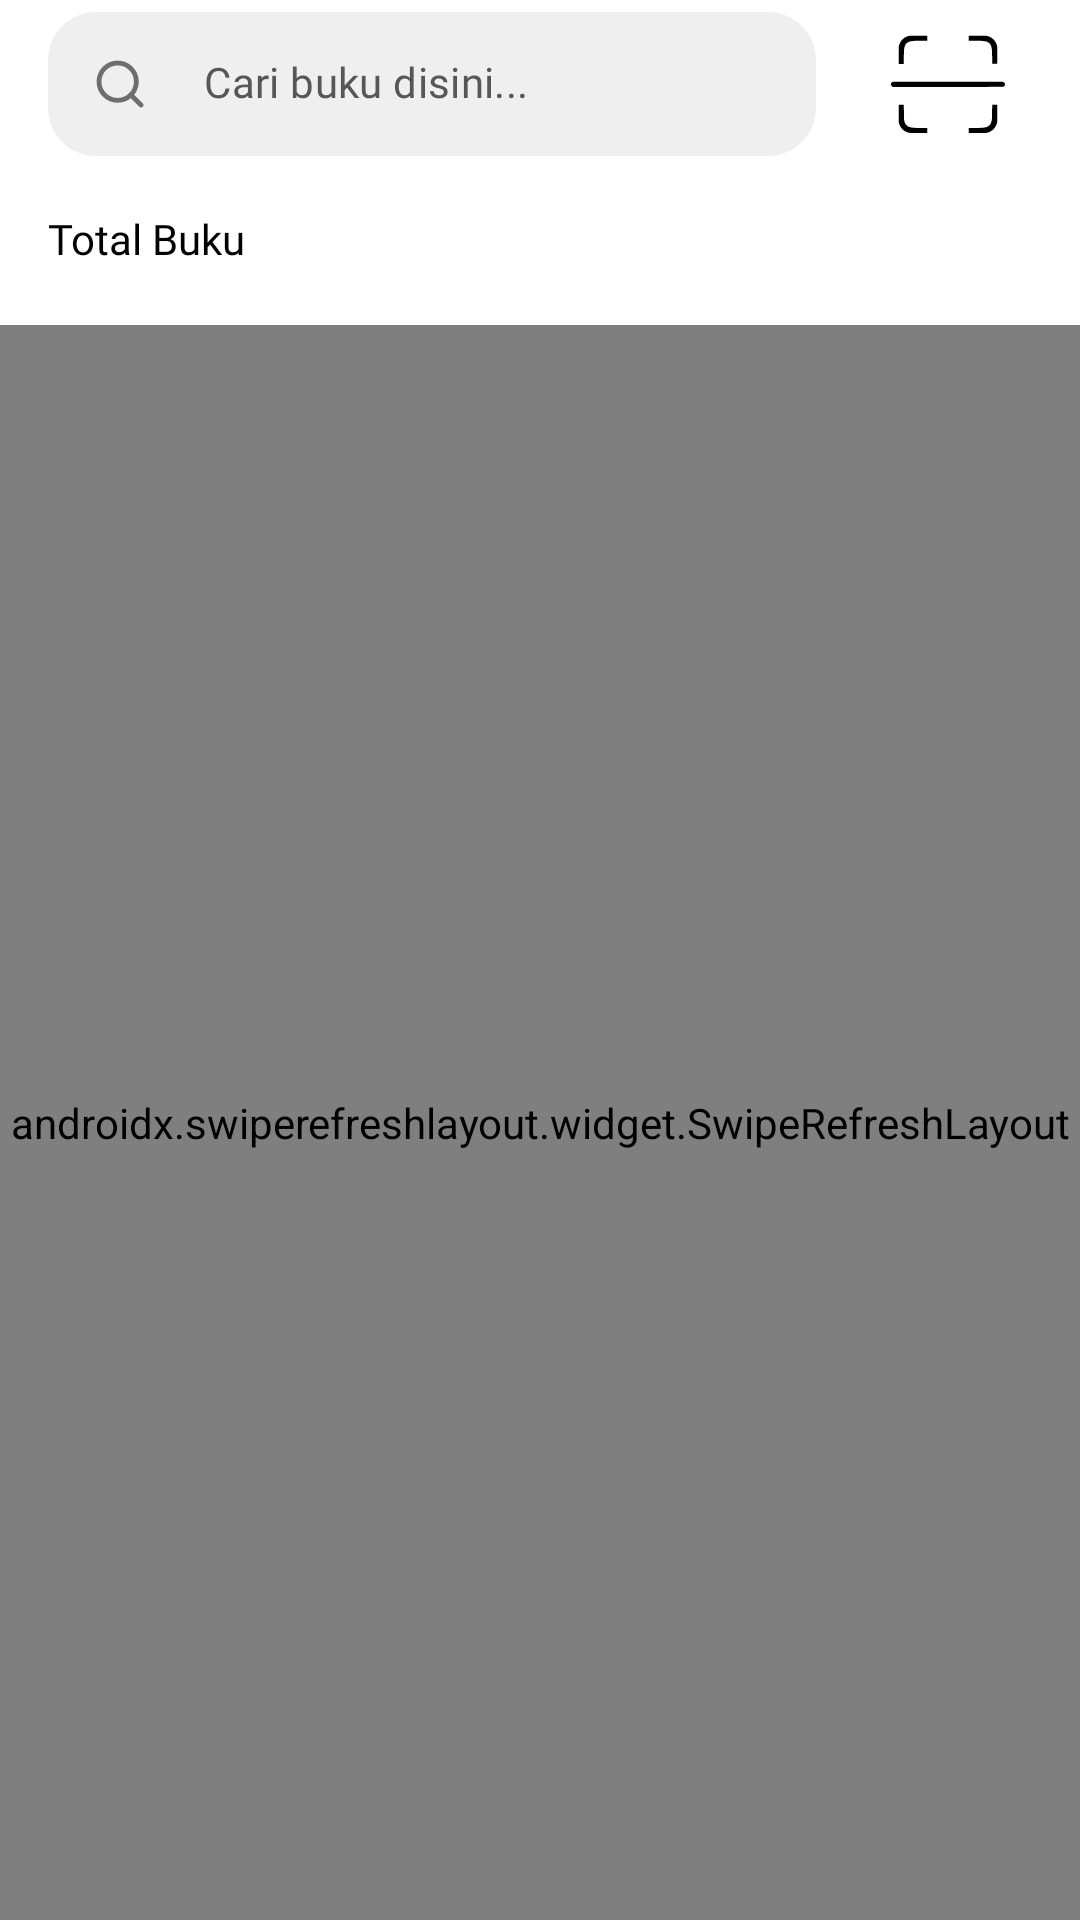

Locate icon controls on the screen. Image size 1080w x 1920h, boxes as (x1, y1, x2, y2).
scan: (891, 35, 1005, 133)
